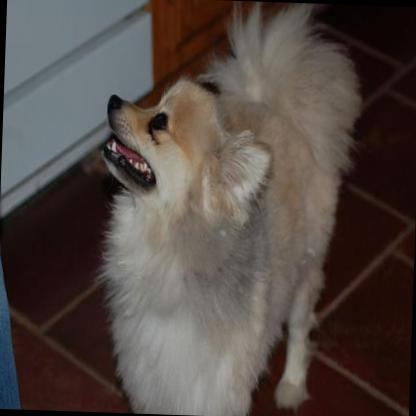Pomeranian: (89, 0, 360, 416)
